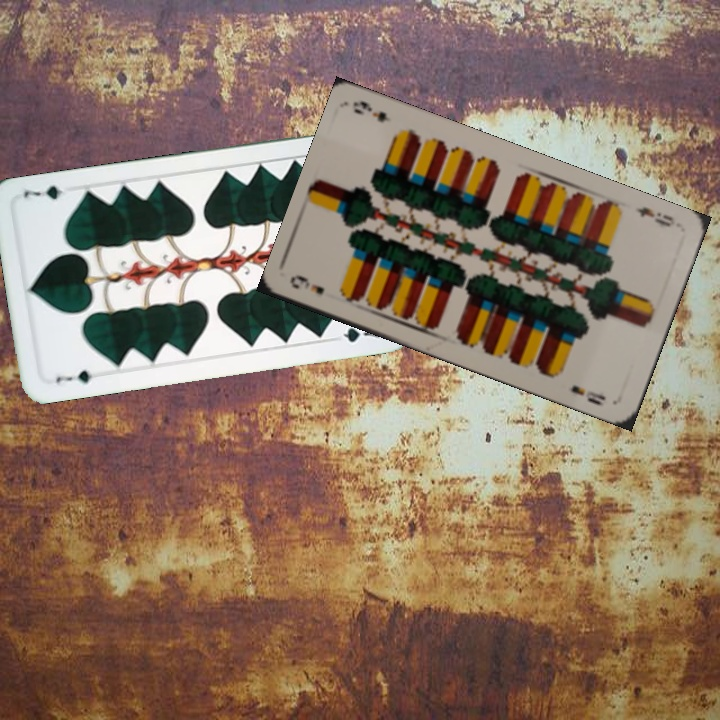E9: (631, 202, 678, 230), (286, 270, 327, 298)
G7: (51, 366, 95, 386)
